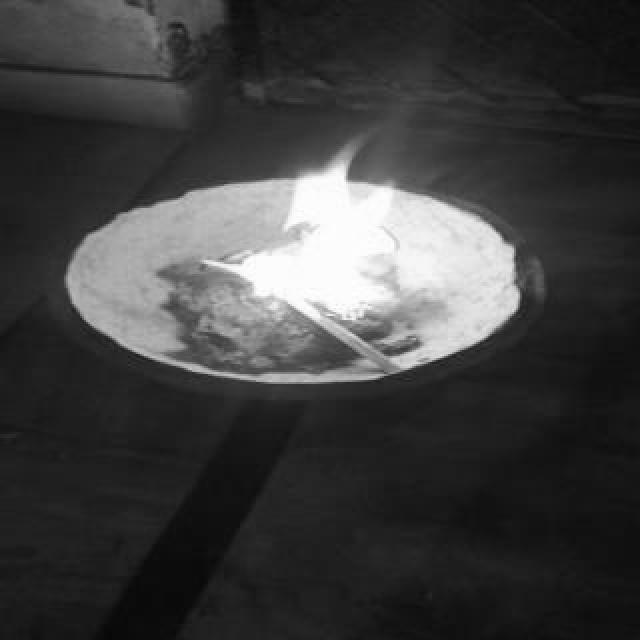Fire: (234, 156, 462, 322)
